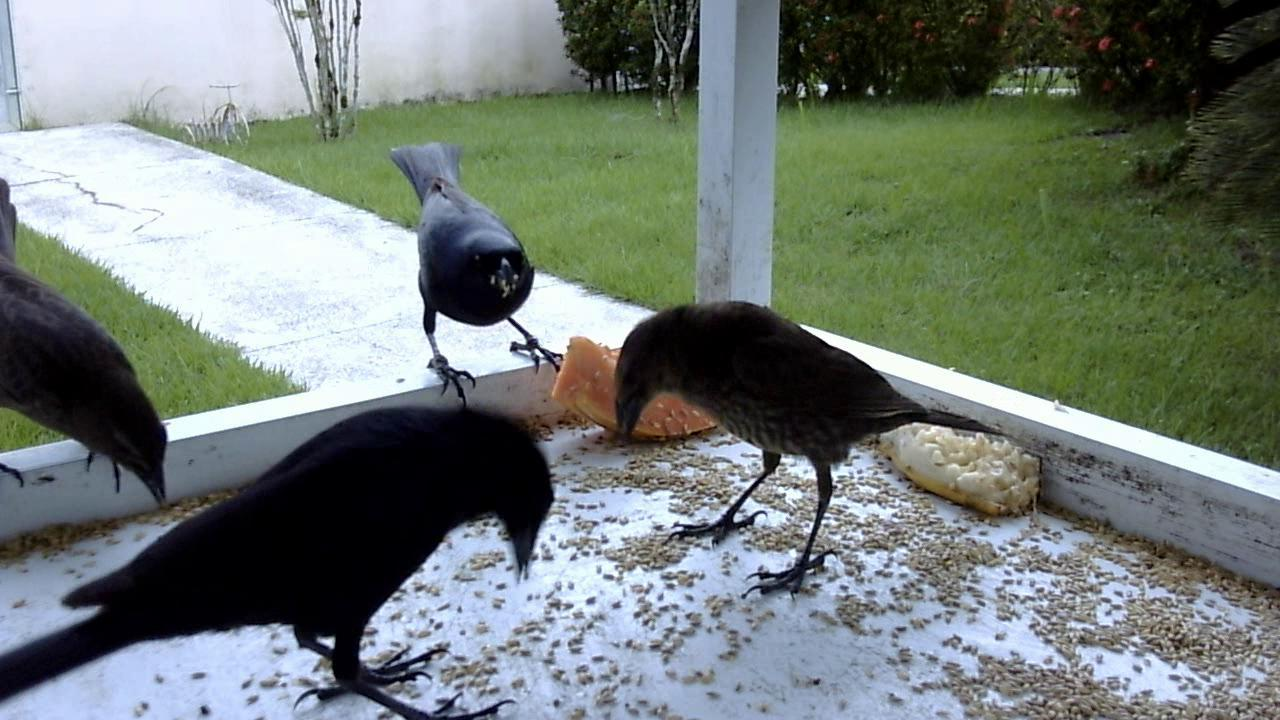chupim: (7, 376, 559, 716), (613, 289, 1010, 609), (1, 168, 171, 521), (384, 146, 569, 406)
